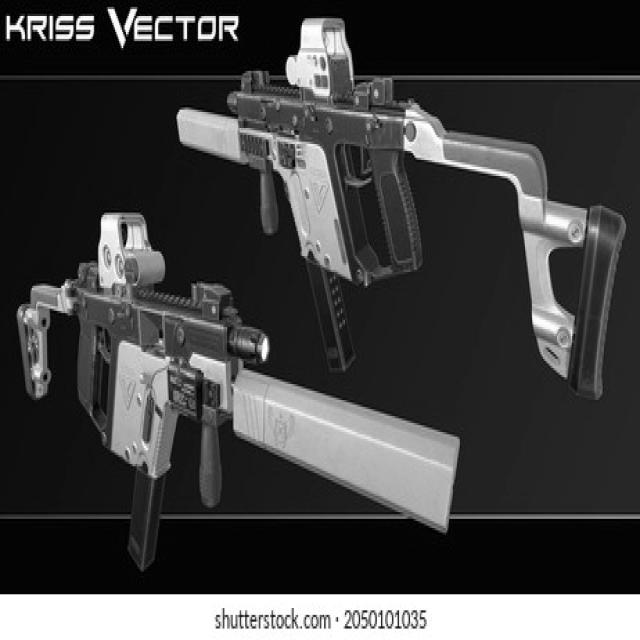Sub-machine-gun: (16, 204, 477, 590), (169, 51, 618, 374)
